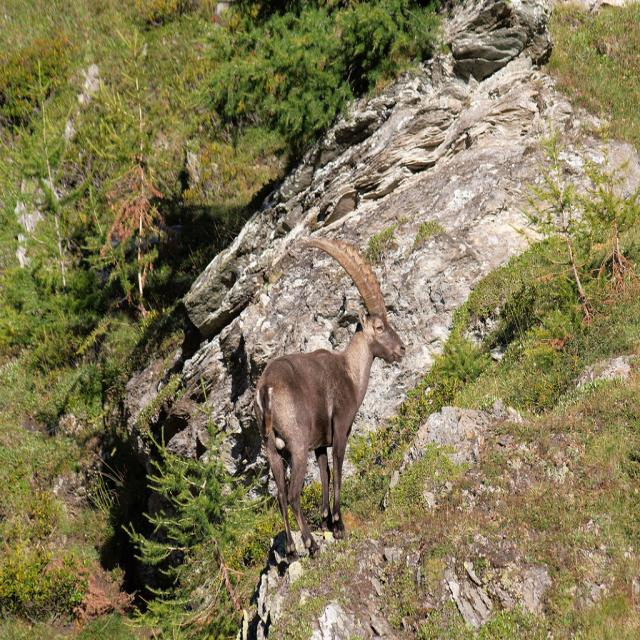Goat: (254, 238, 406, 563)
